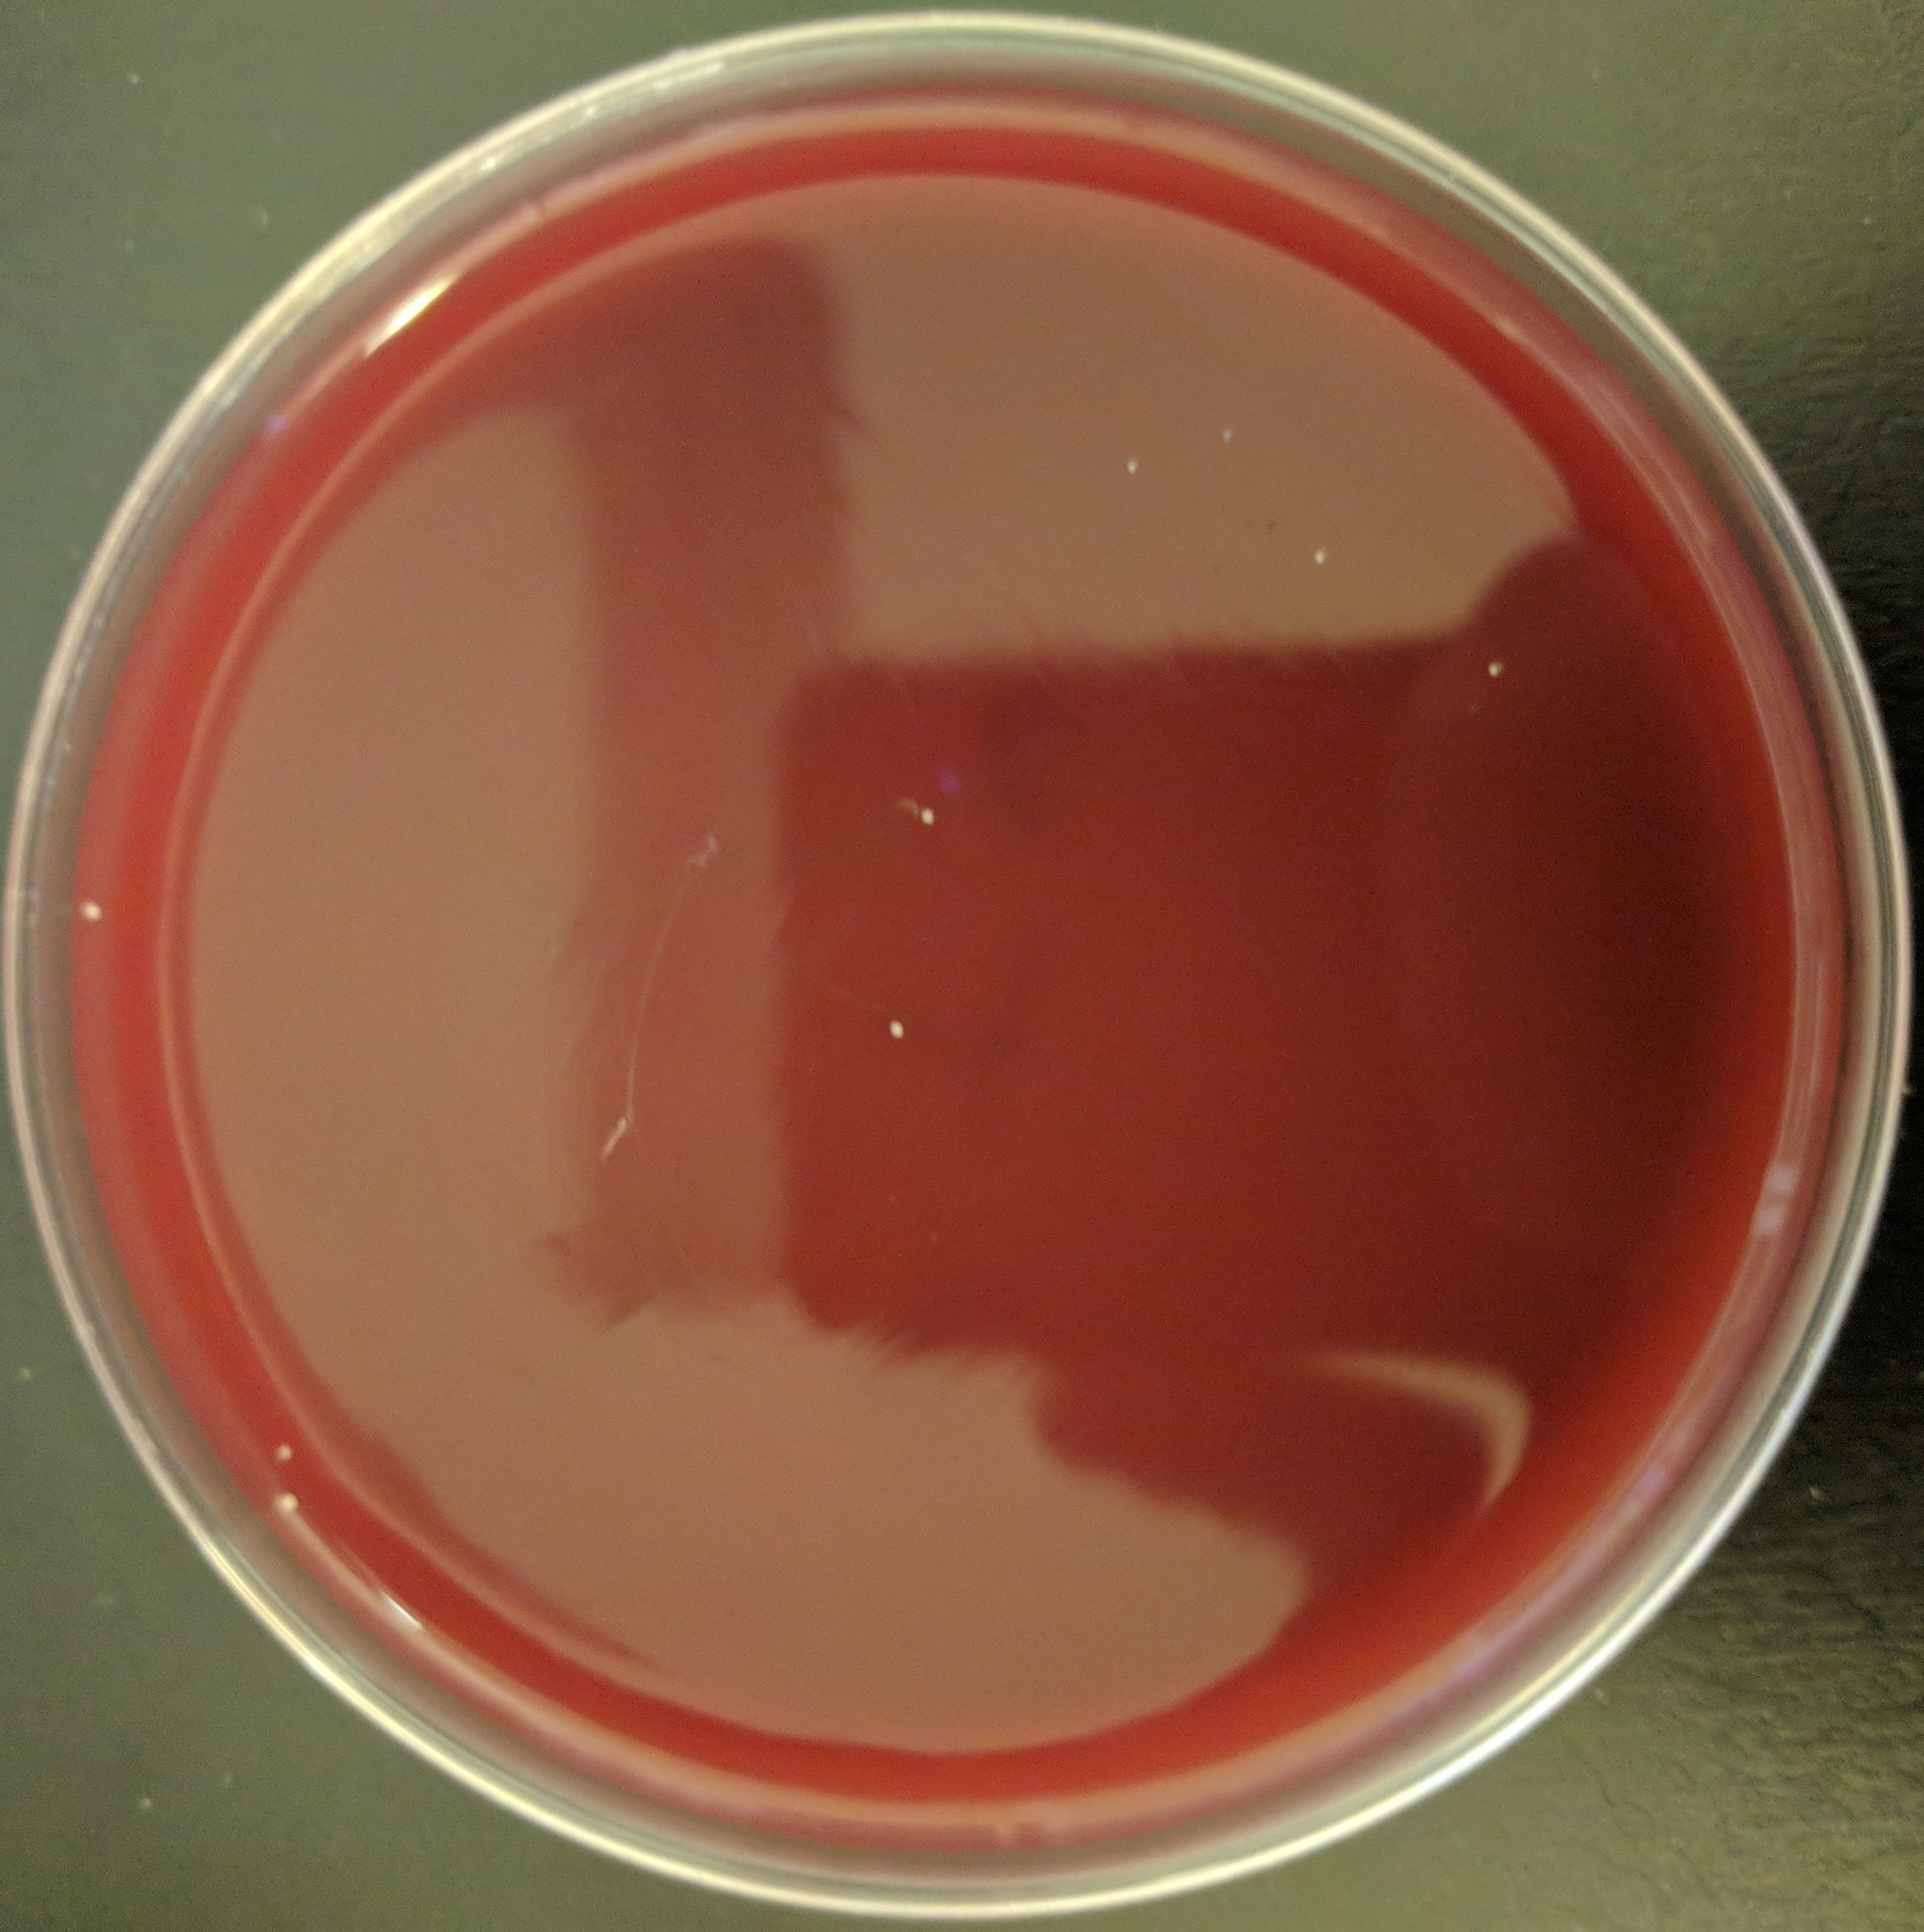sp09: (69, 893, 109, 926), (268, 1488, 303, 1520), (881, 1014, 911, 1046), (1482, 650, 1510, 683), (914, 801, 943, 831), (1307, 541, 1336, 569), (271, 1439, 301, 1465), (1119, 451, 1145, 476), (1216, 421, 1239, 447)
